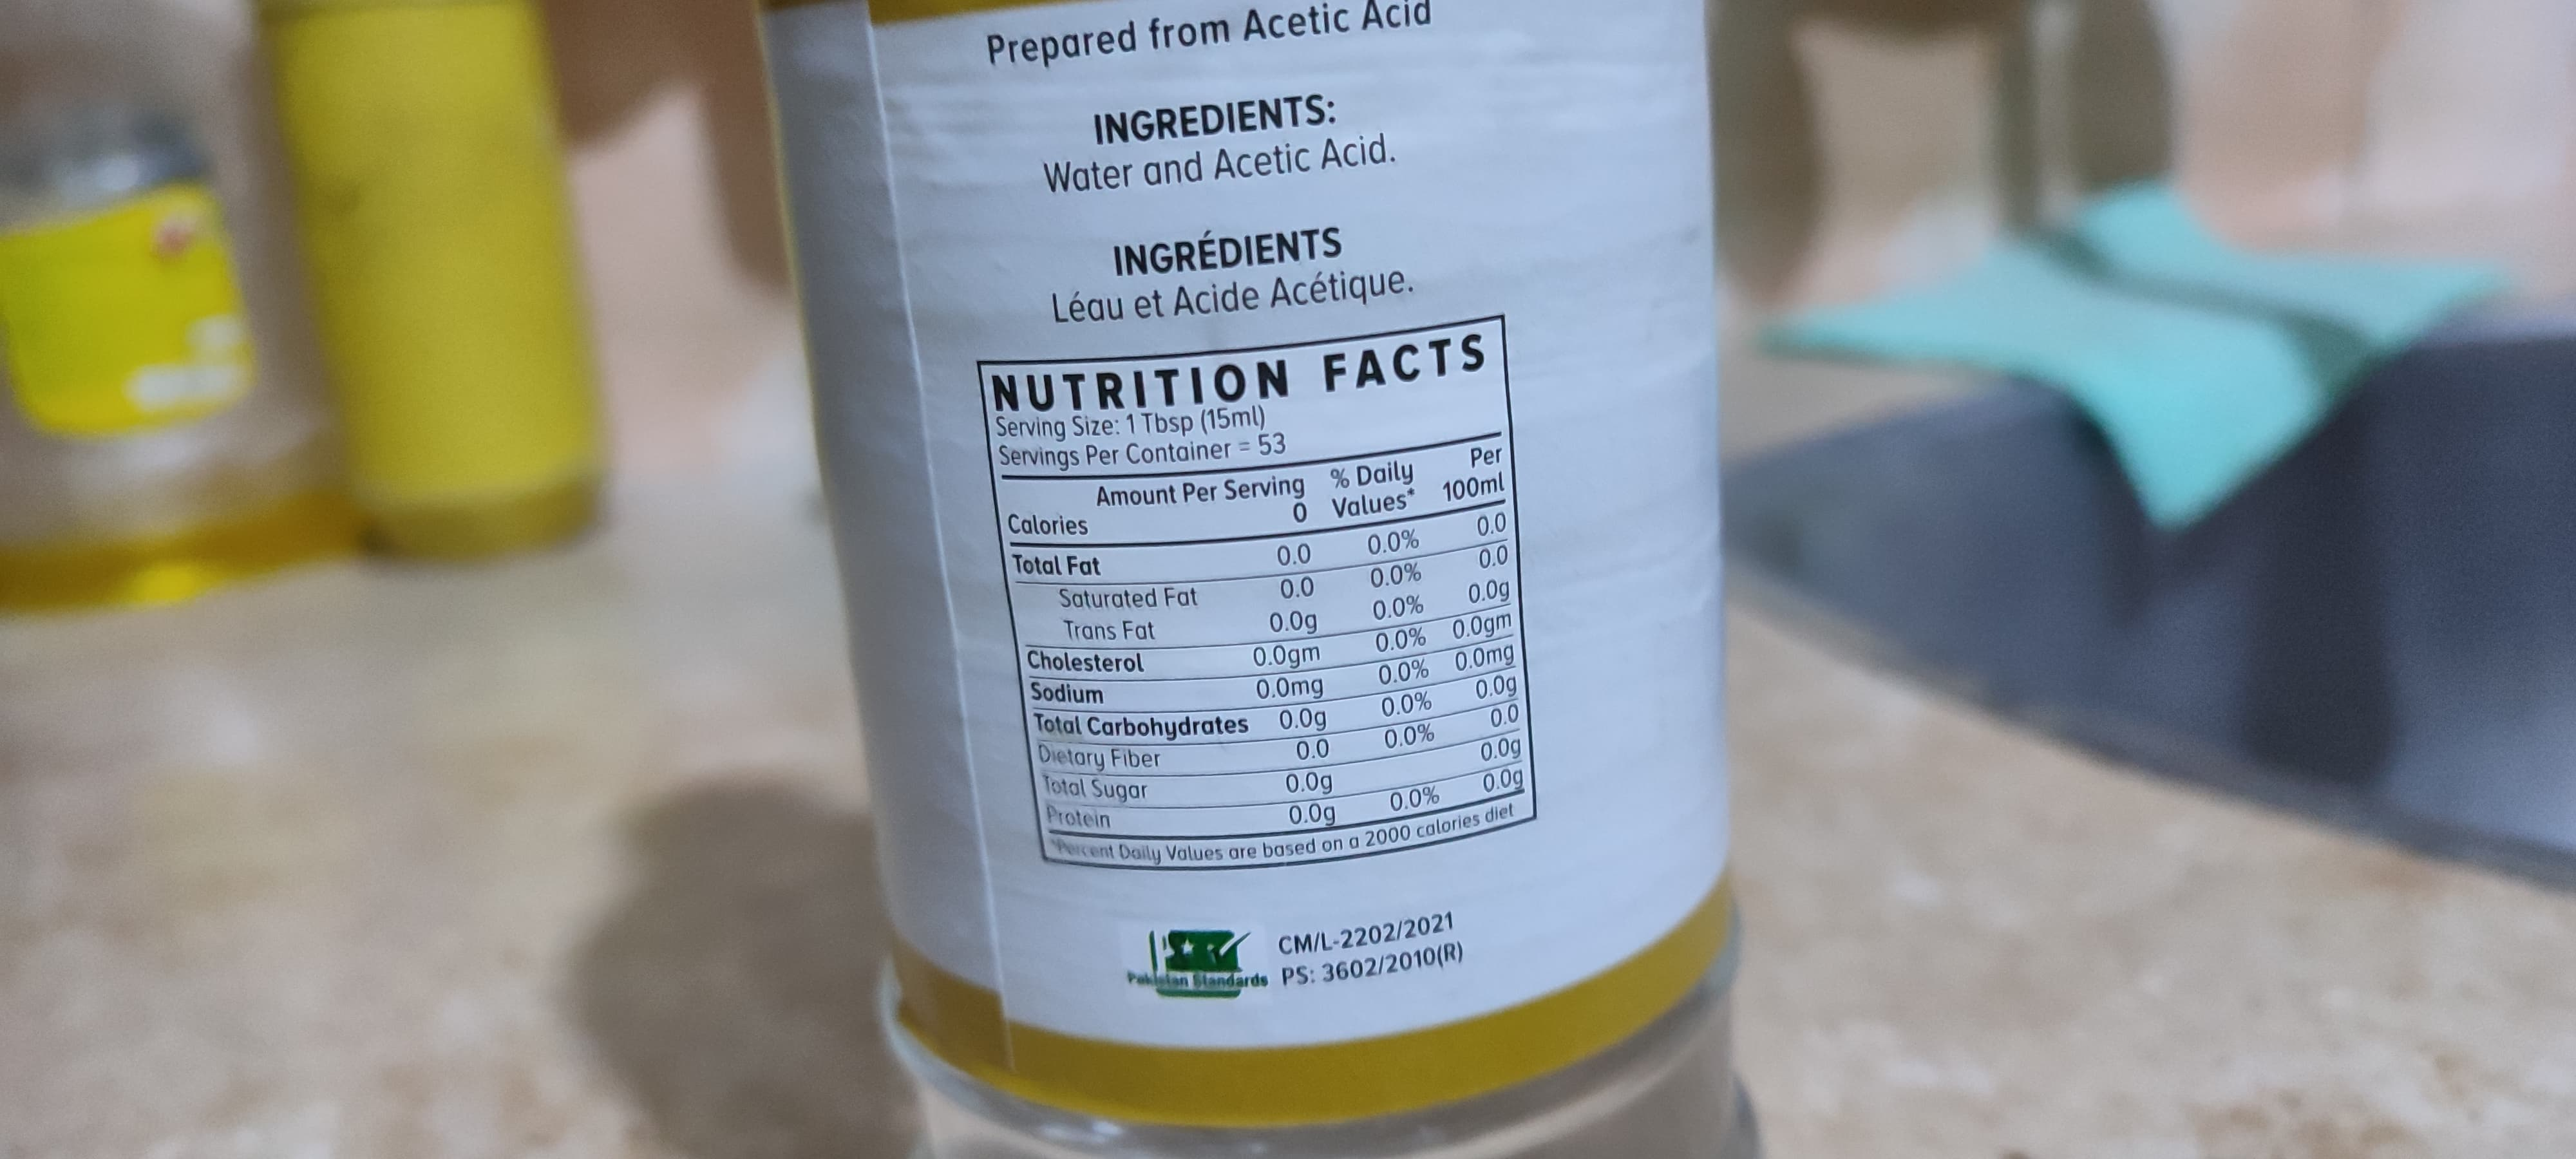table: (966, 312, 1541, 872)
